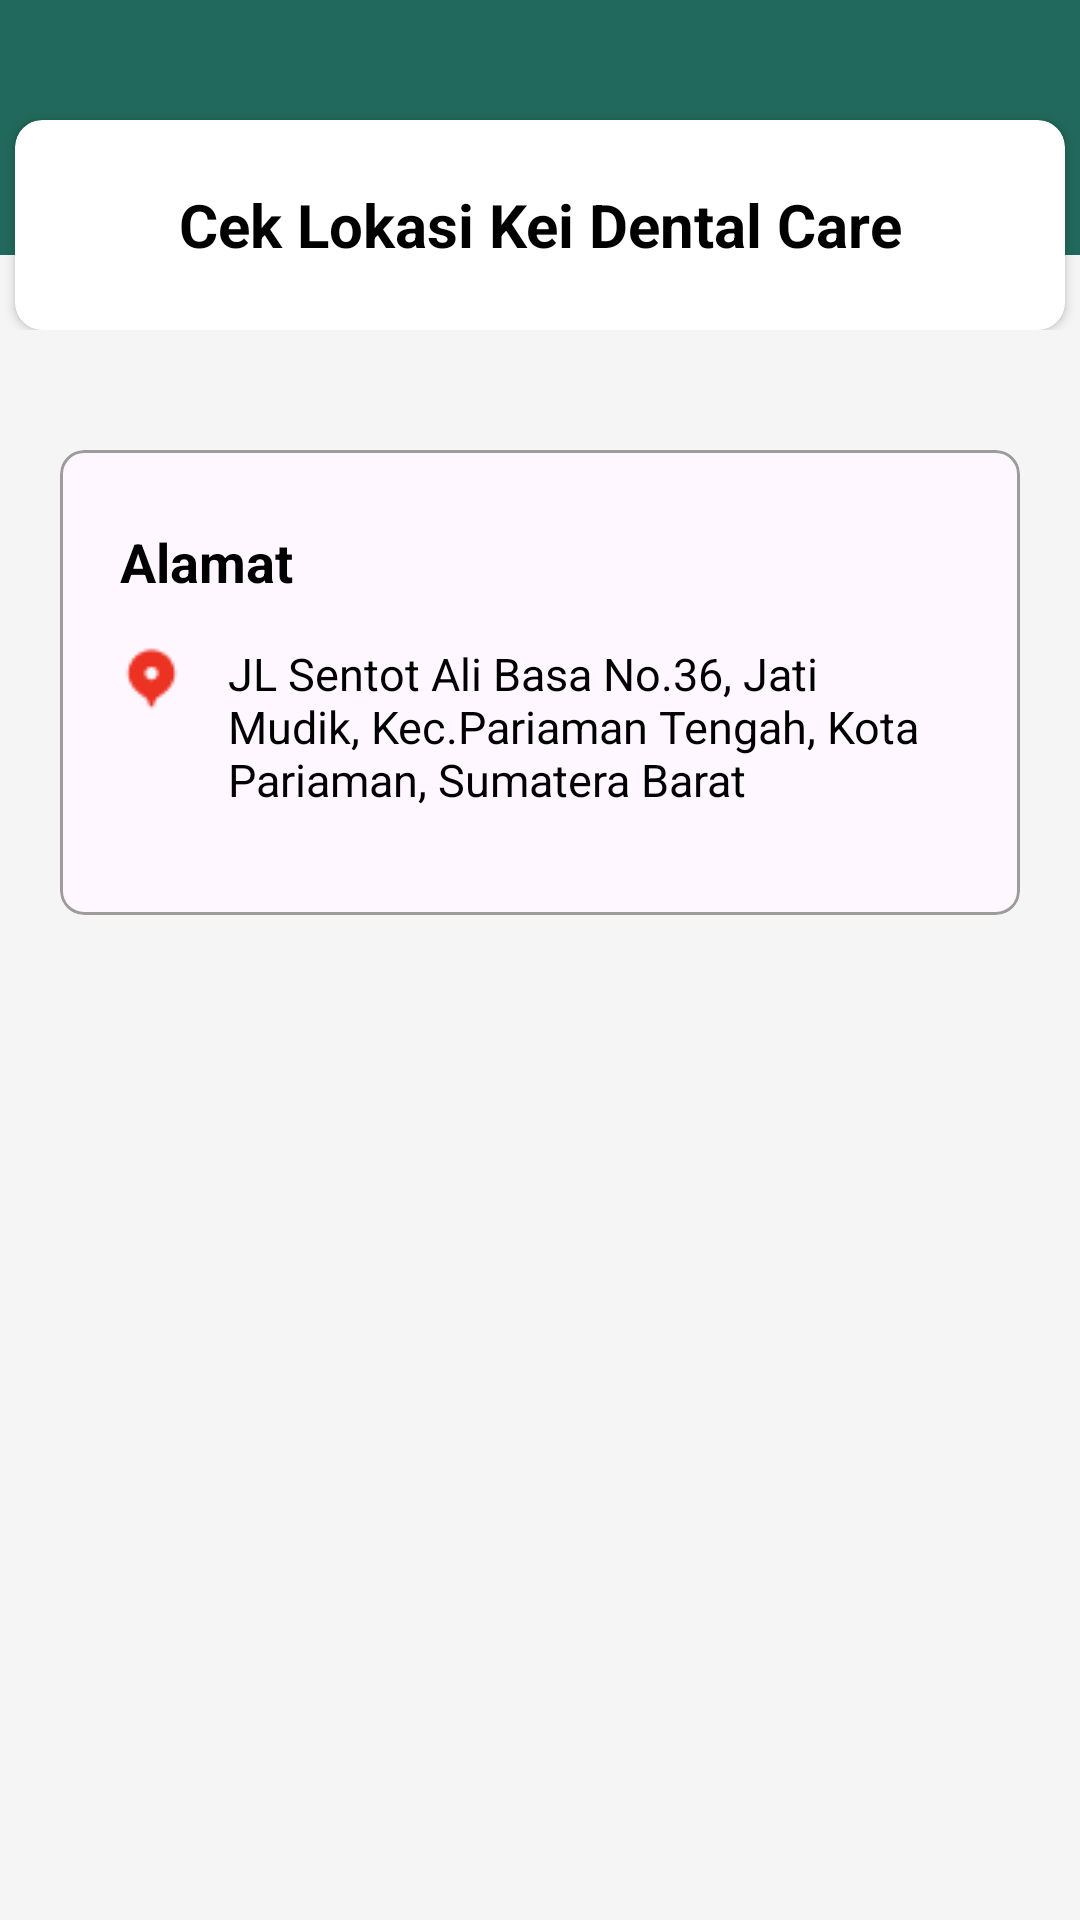

Where icons sit on this 1080*1920 app screen, as (x1, y1, x2, y2):
location: (126, 648, 177, 709)
